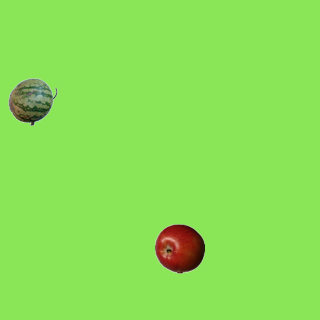Apple Braeburn: (154, 223, 204, 273)
Watermelon: (7, 76, 57, 126)
